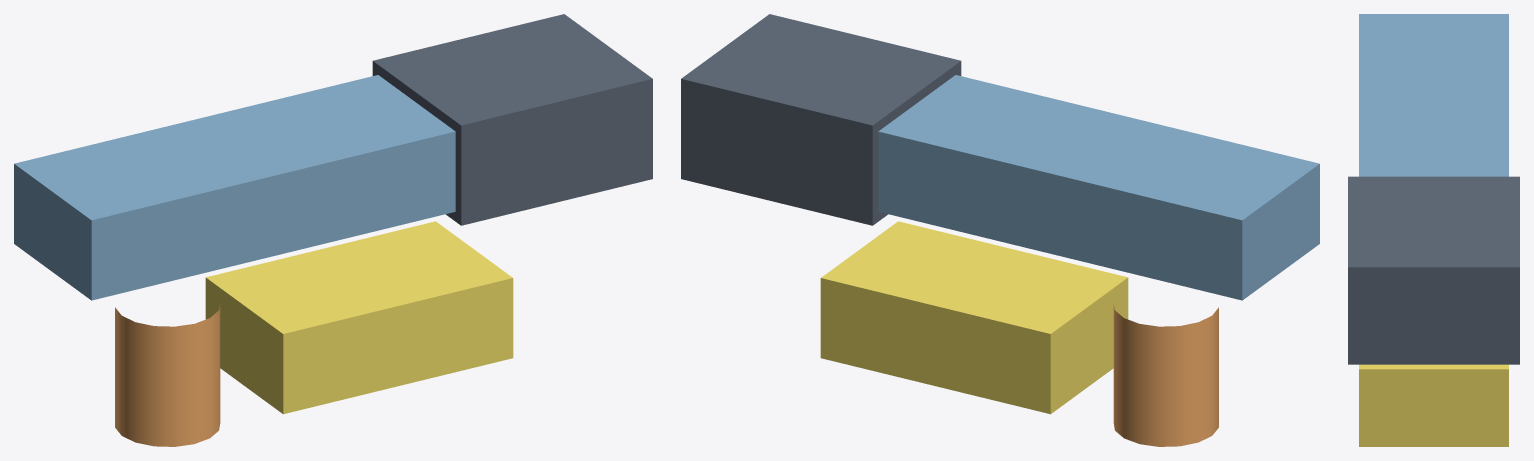
Rendered from dac_adc_converters.glb.
3 renders of one model, left to right at view 1: azimuth 30°, elevation 25°; view 2: azimuth 150°, elevation 25°; view 3: azimuth 270°, elevation 25°, orthographic. The views are drawn at different scales.
Visible parts, largest first — view 1: R2RLadderResistorNetwork, SARLogicControlRegister, FastVoltageComparatorArray, SampleAndHoldAnalogInputStage; view 2: R2RLadderResistorNetwork, SARLogicControlRegister, FastVoltageComparatorArray, SampleAndHoldAnalogInputStage; view 3: FastVoltageComparatorArray, R2RLadderResistorNetwork, SARLogicControlRegister.
Boxes of the visible parts, <box> form: R2RLadderResistorNetwork: <box>14,75,455,300</box>; SARLogicControlRegister: <box>205,221,513,414</box>; FastVoltageComparatorArray: <box>372,14,652,225</box>; SampleAndHoldAnalogInputStage: <box>115,303,220,446</box>; R2RLadderResistorNetwork: <box>878,75,1319,300</box>; SARLogicControlRegister: <box>820,221,1128,414</box>; FastVoltageComparatorArray: <box>681,14,961,225</box>; SampleAndHoldAnalogInputStage: <box>1113,303,1218,446</box>; FastVoltageComparatorArray: <box>1348,176,1519,364</box>; R2RLadderResistorNetwork: <box>1359,14,1508,176</box>; SARLogicControlRegister: <box>1359,364,1508,446</box>.
Size of the model in its own units: 1.45 by 0.675 by 0.4.
